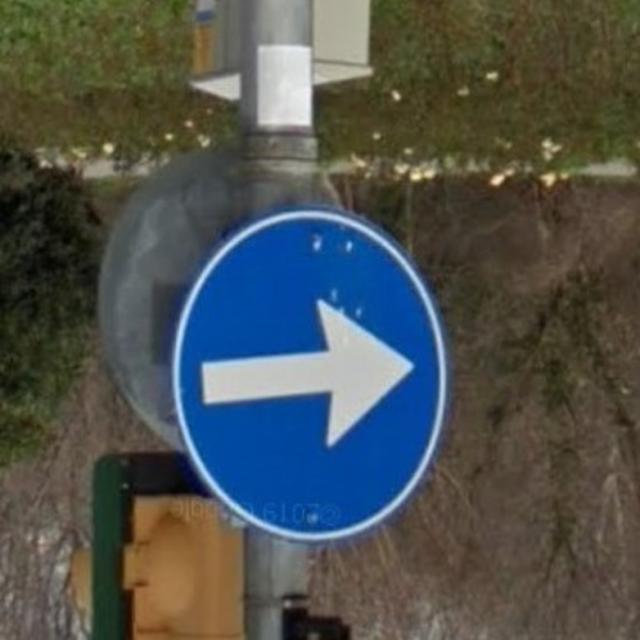Turn Right: (170, 207, 448, 542)
